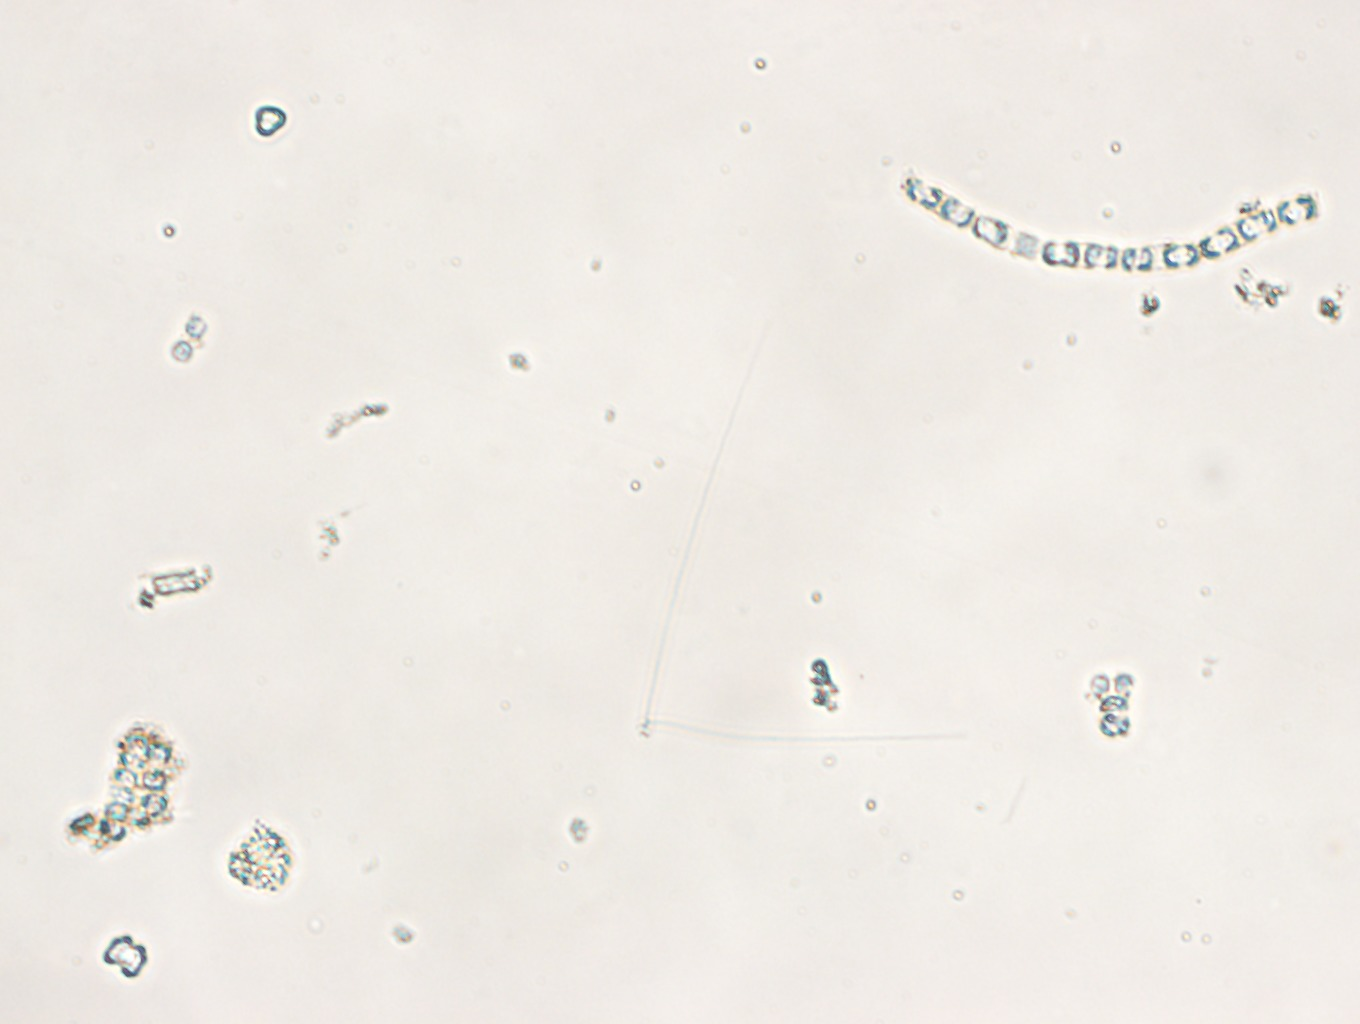skeletonema: (900, 167, 1322, 272)
